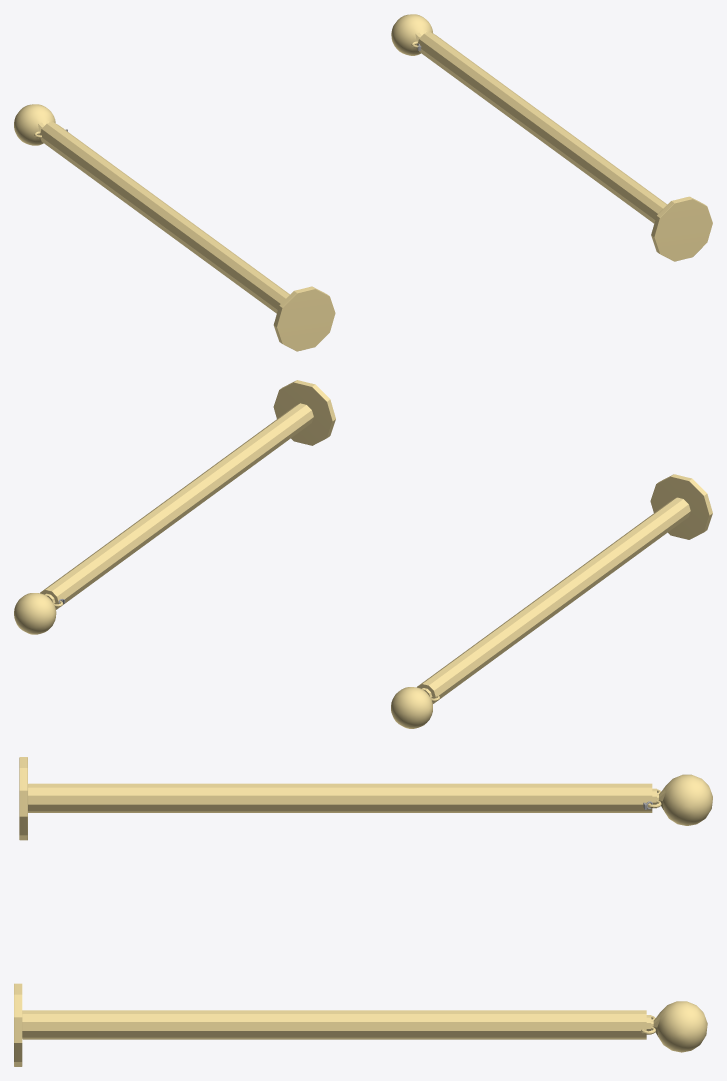
File: ribbon.fbx
The picture shows the model from 3 angles, top to bottom: view 1: azimuth 30°, elevation 25°; view 2: azimuth 150°, elevation 25°; view 3: azimuth 270°, elevation 25°; orthographic projection. The views are drawn at different scales.
Parts seen in each view (by area): view 1: pTorus9, pTorus10; view 2: pTorus9, pTorus10; view 3: pTorus10, pTorus9.
Boxes of the visible parts, x1,y1,x2,y2 form: pTorus9: [14, 104, 335, 351]; pTorus10: [391, 14, 712, 261]; pTorus9: [391, 474, 712, 728]; pTorus10: [14, 380, 335, 634]; pTorus10: [14, 983, 707, 1066]; pTorus9: [19, 757, 712, 840].
Bounding box in the file's own units: 4.72 × 0.6087 × 5.33.
